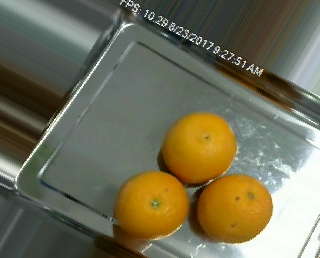Orange: (196, 173, 274, 244), (161, 110, 236, 183), (114, 171, 189, 239)
